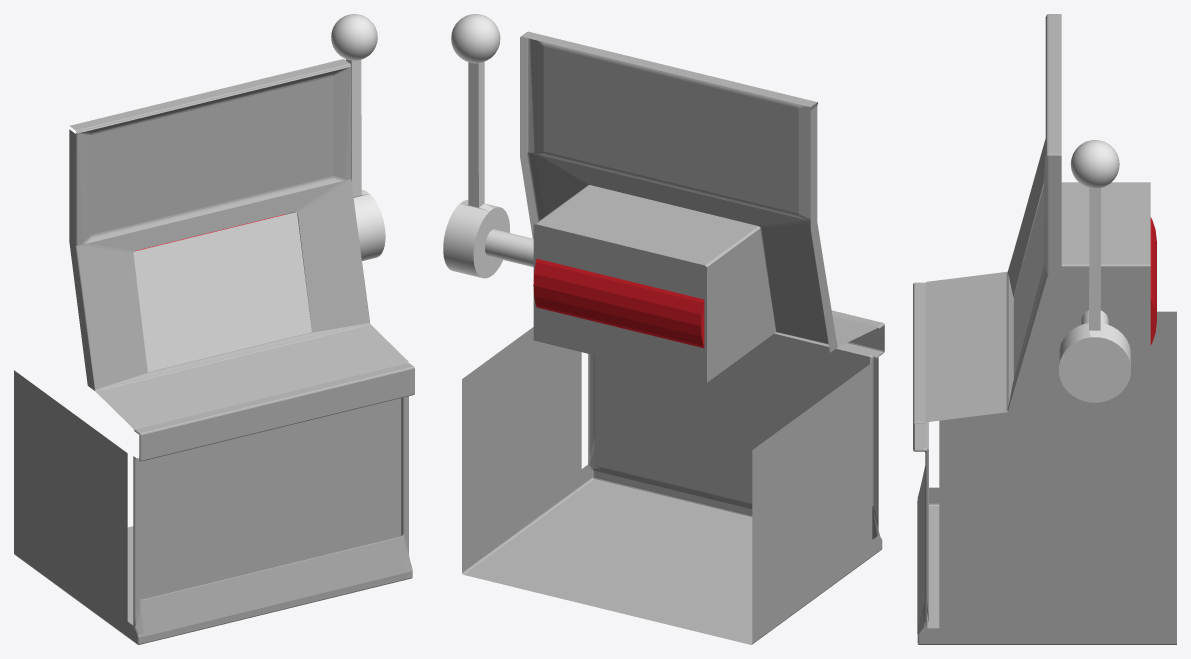
The picture shows the model from 3 angles, left to right: view 1: azimuth 30°, elevation 25°; view 2: azimuth 150°, elevation 25°; view 3: azimuth 270°, elevation 25°; orthographic projection. The views are drawn at different scales.
Visible parts, largest first — view 1: Box, Glass, LeverArm, Knob; view 2: Box, Cylinder, LeverArm, Knob; view 3: Box, LeverArm, Glass, Knob, Cylinder.
Part boxes in pixels (left/top/right/bottom): Box: left=14, top=59, right=414, bottom=644; Glass: left=133, top=212, right=311, bottom=371; LeverArm: left=346, top=59, right=385, bottom=260; Knob: left=331, top=14, right=377, bottom=60; Box: left=462, top=31, right=884, bottom=644; Cylinder: left=533, top=258, right=704, bottom=348; LeverArm: left=443, top=61, right=533, bottom=278; Knob: left=451, top=14, right=500, bottom=63; Box: left=913, top=14, right=1176, bottom=644; LeverArm: left=1059, top=188, right=1130, bottom=402; Glass: left=1013, top=187, right=1043, bottom=378; Knob: left=1070, top=140, right=1119, bottom=188; Cylinder: left=1150, top=217, right=1156, bottom=345.
Bounding box in the file's own units: 6.27 × 9.21 × 4.26.
